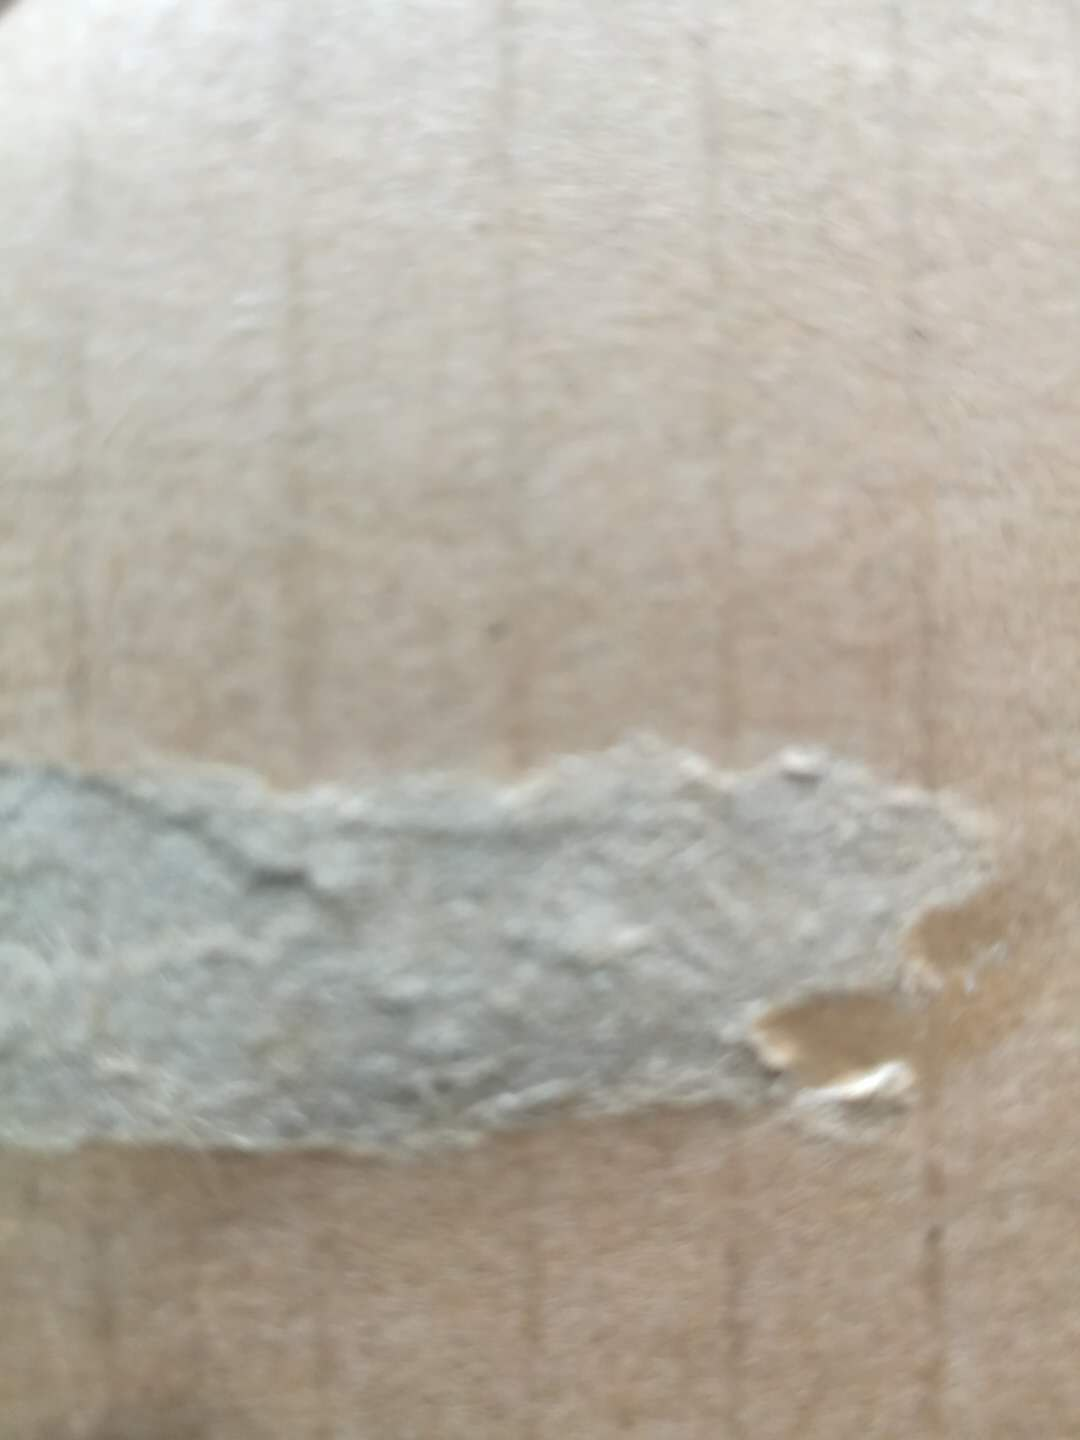defect: (3, 676, 1080, 1233)
